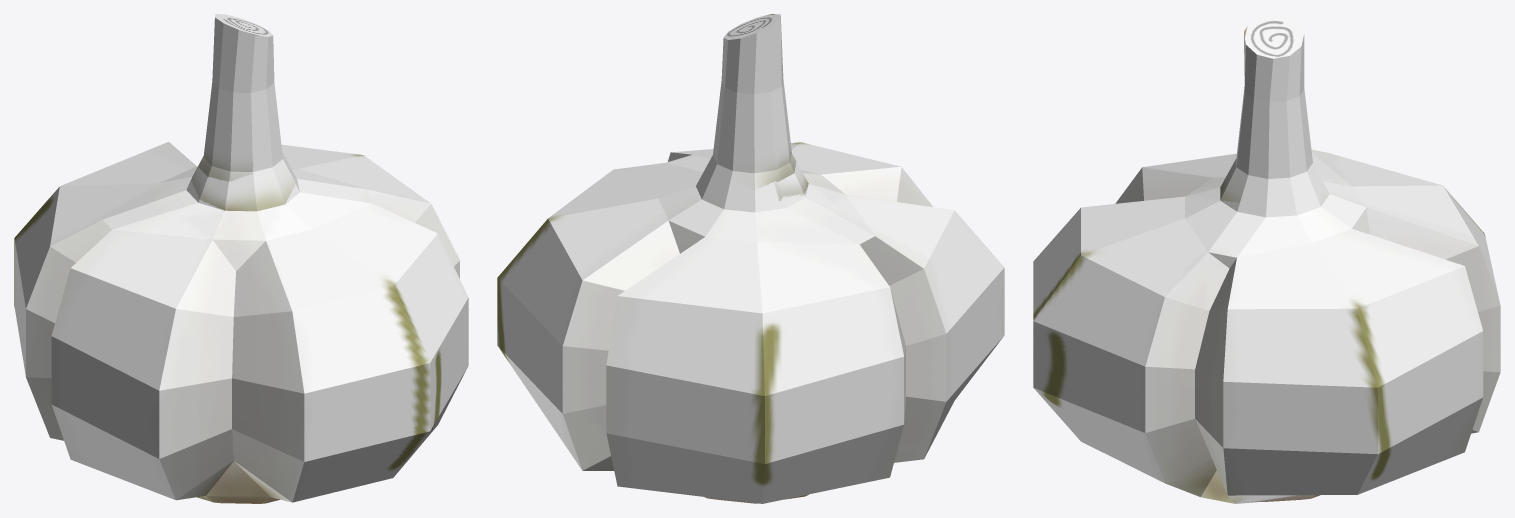
Rendered from garlic.fbx.
3 views of the same model, side by side, from view 1: azimuth 30°, elevation 25°; view 2: azimuth 150°, elevation 25°; view 3: azimuth 270°, elevation 25° (orthographic). The views are drawn at different scales.
Visible parts, largest first — view 1: Sphere; view 2: Sphere; view 3: Sphere.
Part boxes in pixels (x1=…): Sphere: x1=14, y1=14, x2=468, y2=503; Sphere: x1=497, y1=14, x2=1004, y2=503; Sphere: x1=1033, y1=14, x2=1500, y2=503.
Size of the model in its own units: 173 by 192 by 182.
